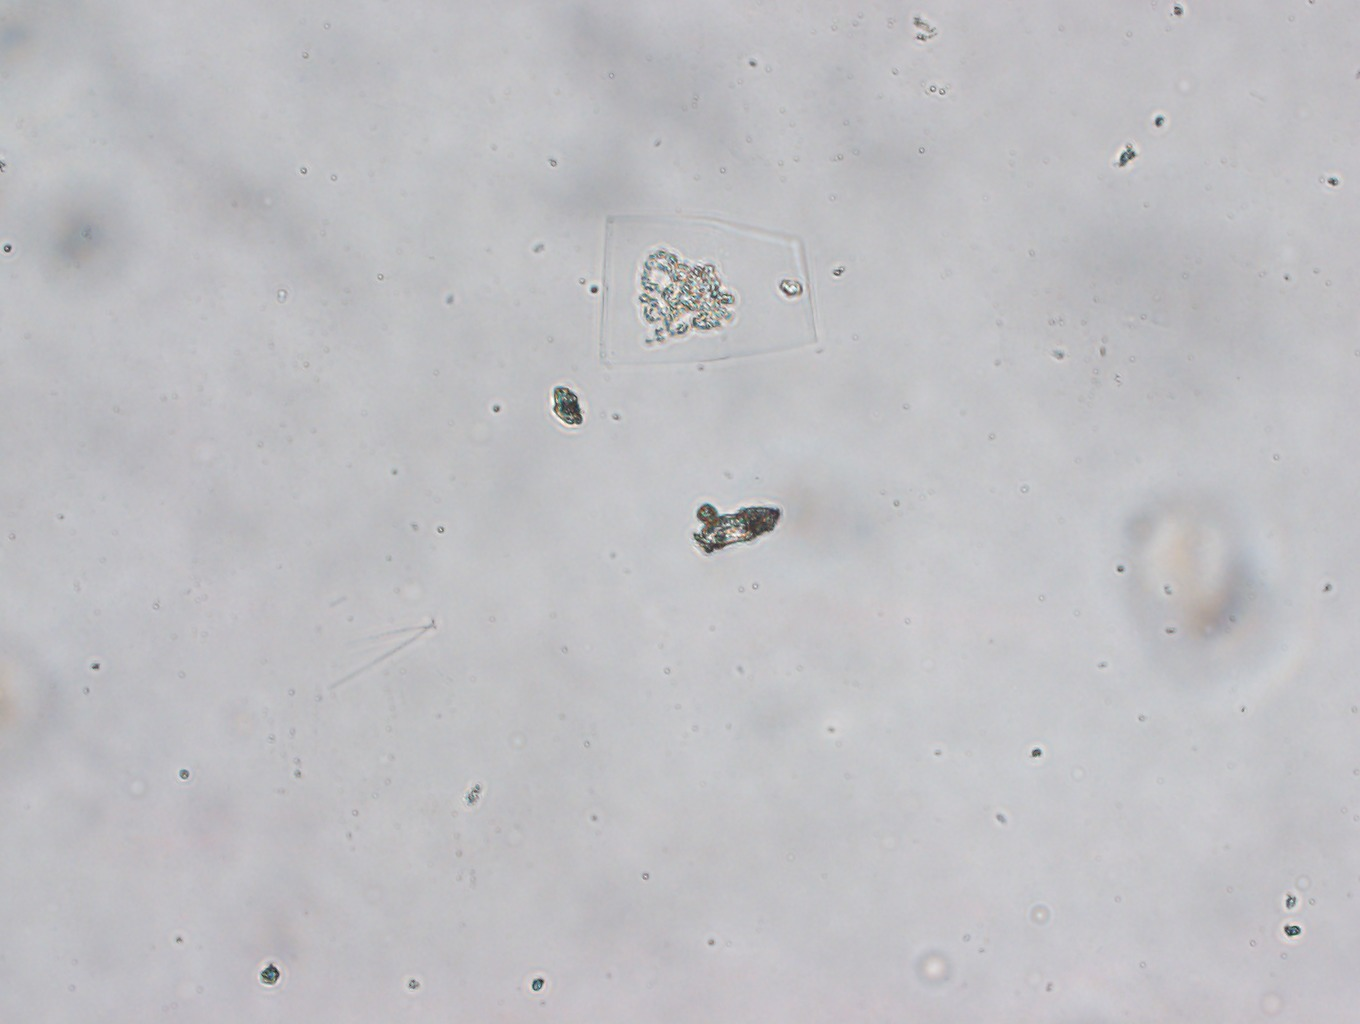helicotheca: (596, 211, 817, 373)
